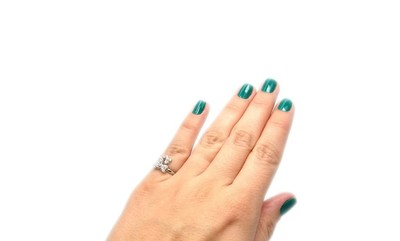mindinho: (138, 90, 217, 182)
